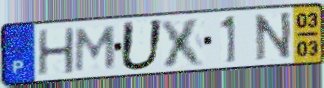1: (218, 14, 238, 65)
H: (36, 26, 77, 78)
M: (73, 24, 119, 74)
N: (253, 9, 294, 63)
U: (117, 18, 166, 73)
X: (158, 16, 208, 69)
